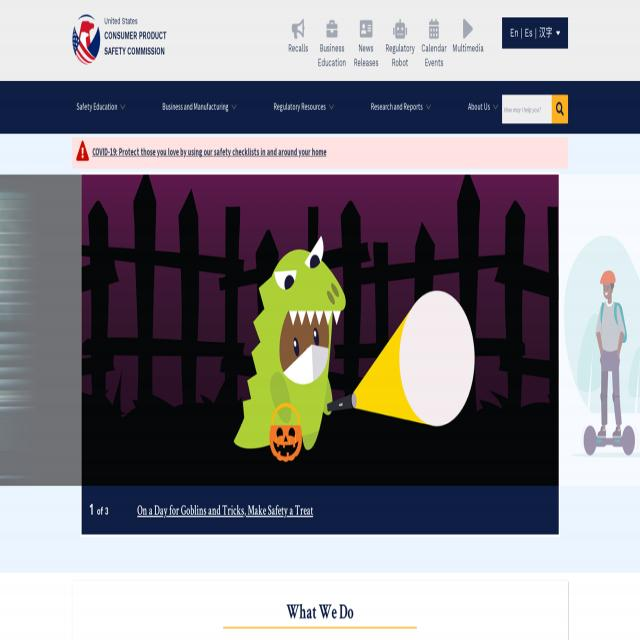button: (81, 174, 558, 534), (65, 8, 171, 70), (158, 90, 236, 124), (270, 90, 334, 124), (367, 90, 431, 124), (502, 17, 568, 49), (72, 90, 125, 124), (464, 90, 498, 124), (552, 95, 568, 122), (393, 18, 407, 40), (292, 18, 304, 40), (360, 18, 372, 40), (327, 18, 338, 40), (429, 18, 439, 40), (463, 18, 473, 40)
field: (502, 95, 552, 124)
